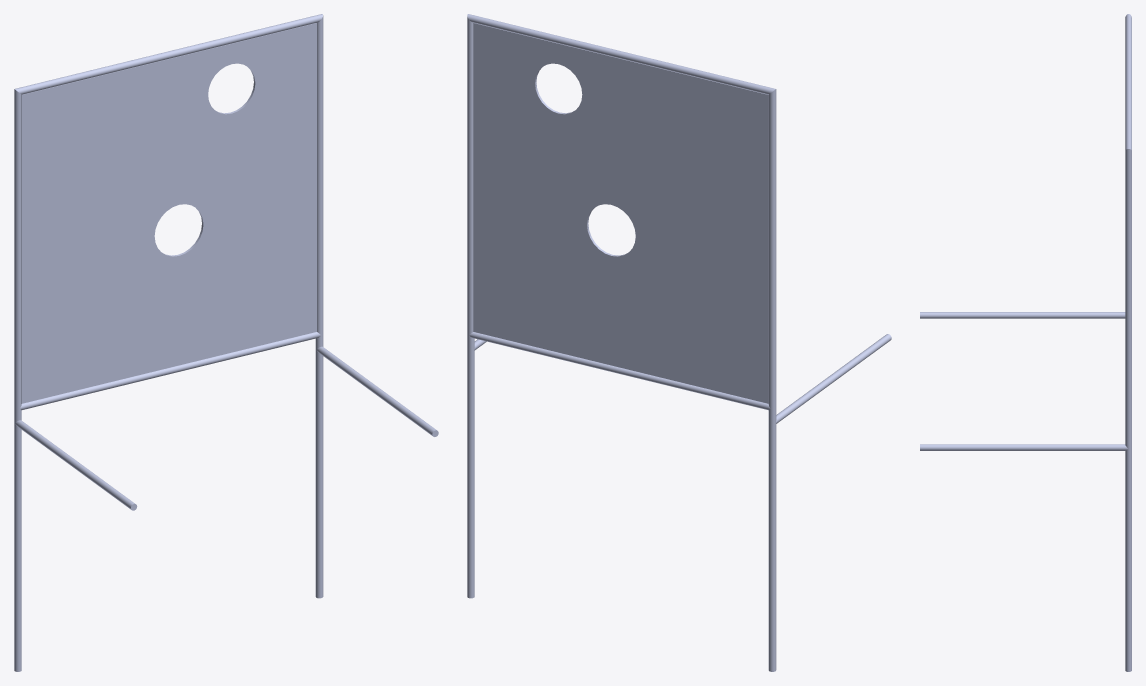
File: tagging.obj
3 renders of one model, left to right at view 1: azimuth 30°, elevation 25°; view 2: azimuth 150°, elevation 25°; view 3: azimuth 270°, elevation 25°, orthographic. The views are drawn at different scales.
Visible parts, largest first — view 1: Root|Tagging_(Predeterminado)|Predeterminado|Cortar-Extruir1|Cor, Root|Tagging_(Predeterminado)|Predeterminado|Saliente-Extruir3|S; view 2: Root|Tagging_(Predeterminado)|Predeterminado|Cortar-Extruir1|Cor, Root|Tagging_(Predeterminado)|Predeterminado|Saliente-Extruir3|S; view 3: Root|Tagging_(Predeterminado)|Predeterminado|Saliente-Extruir3|S.
Part boxes in pixels (box(x1,y1,x2,y2)): Root|Tagging_(Predeterminado)|Predeterminado|Cortar-Extruir1|Cor: box(21, 23, 316, 403); Root|Tagging_(Predeterminado)|Predeterminado|Saliente-Extruir3|S: box(14, 14, 438, 671); Root|Tagging_(Predeterminado)|Predeterminado|Cortar-Extruir1|Cor: box(473, 23, 768, 403); Root|Tagging_(Predeterminado)|Predeterminado|Saliente-Extruir3|S: box(467, 14, 891, 671); Root|Tagging_(Predeterminado)|Predeterminado|Saliente-Extruir3|S: box(920, 14, 1131, 671).
Size of the model in its own units: 0.6127 by 1.11 by 0.4064.
